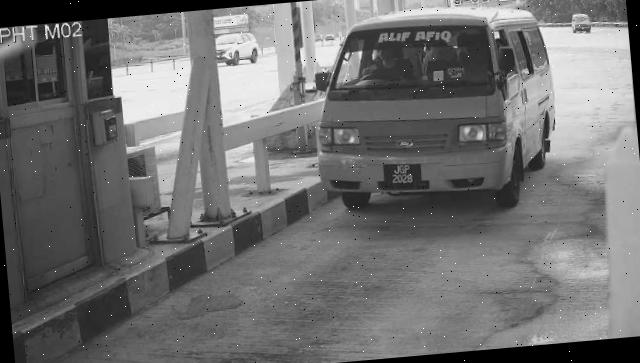License_Plate: (382, 162, 424, 193)
van: (307, 1, 564, 224)
